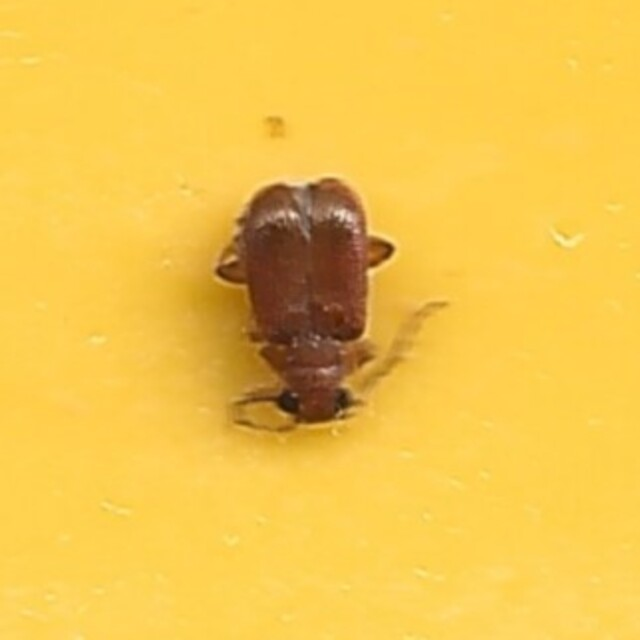Coleoptera: (199, 184, 441, 456)
